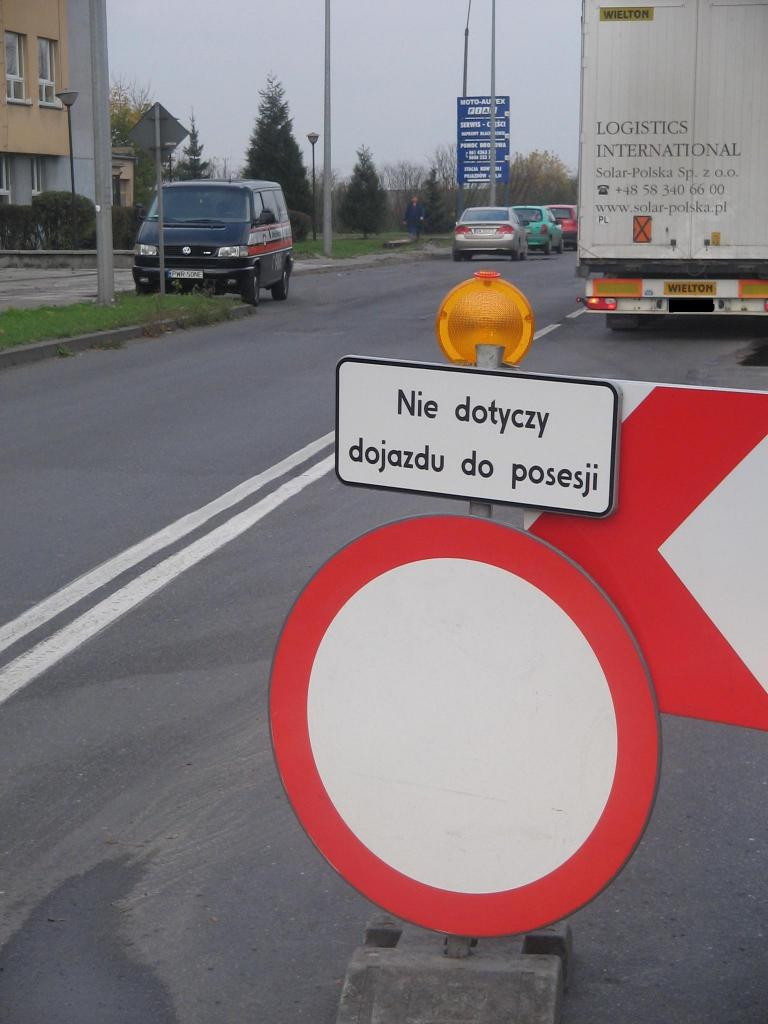no_entry_sign: (266, 514, 663, 937)
